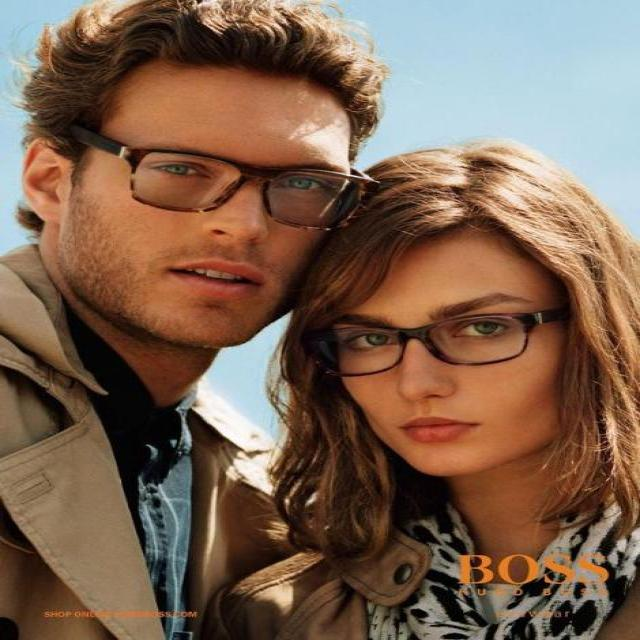glasses: (116, 144, 385, 232), (316, 311, 550, 377)
